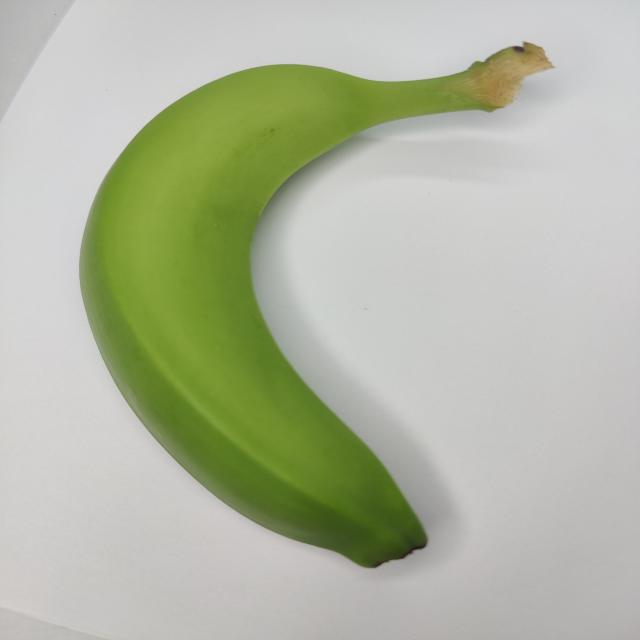raw: (58, 28, 592, 586)
